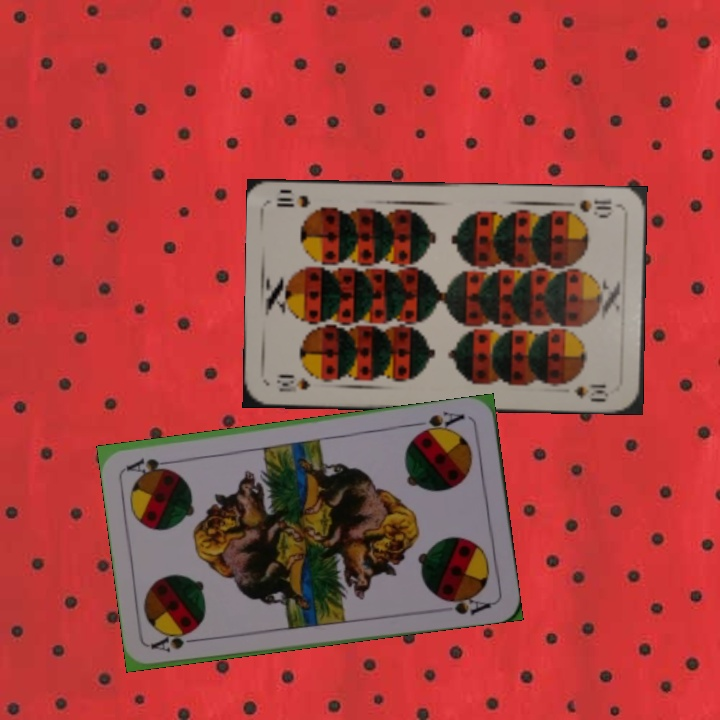S10: (561, 195, 614, 220), (272, 372, 313, 395)
SA: (411, 407, 467, 438), (148, 628, 207, 655)
